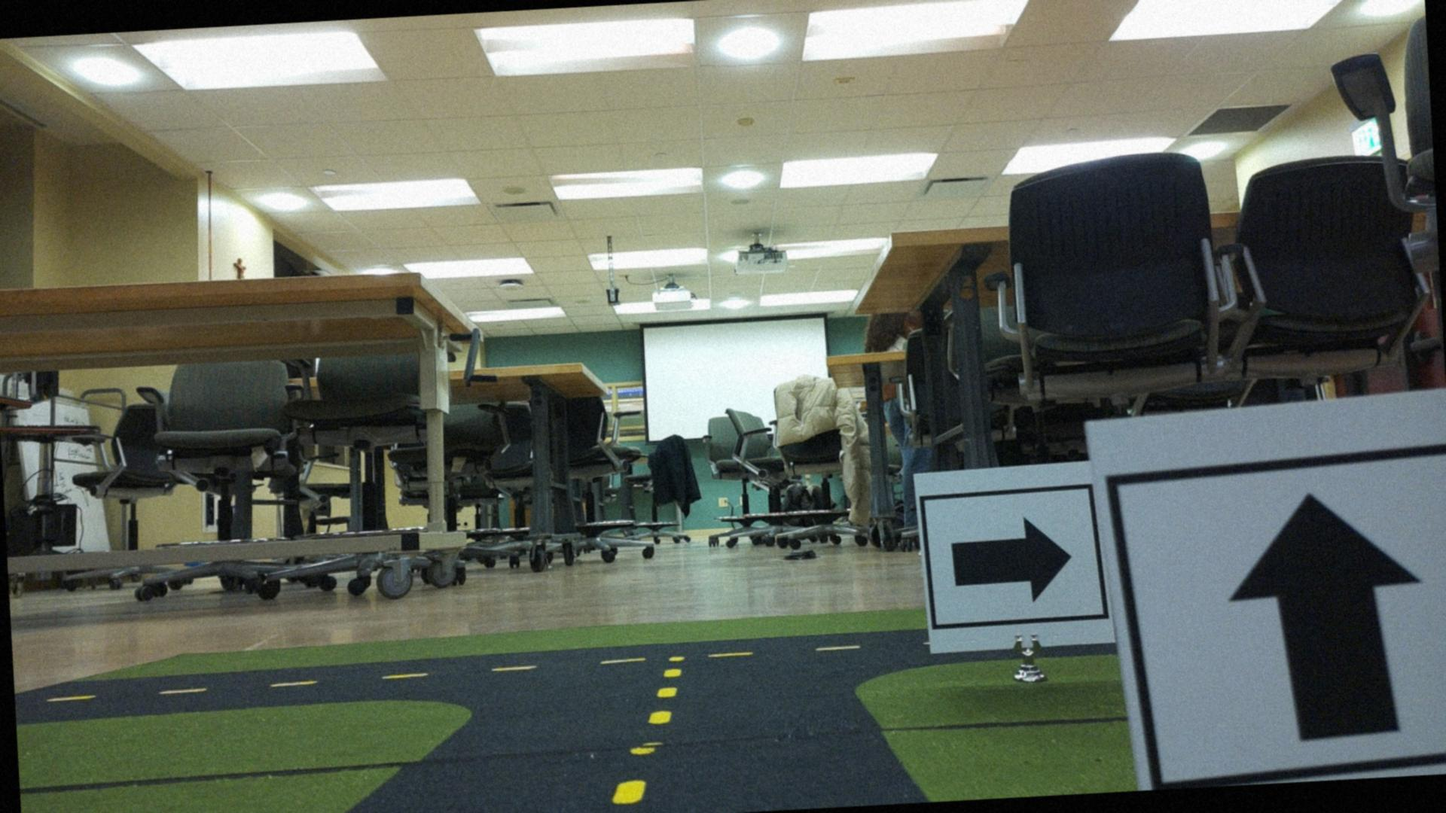gostraight: (1112, 400, 1445, 791)
turnleft: (920, 468, 1102, 656)
yellowline: (609, 668, 687, 805)
